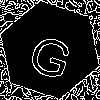G: (25, 25, 79, 81)
